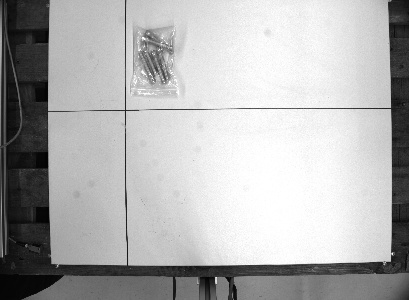t2: (127, 22, 184, 100)
